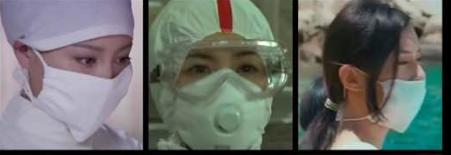OK: (167, 47, 265, 145), (42, 43, 133, 134)
WRONG: (354, 38, 432, 131)
